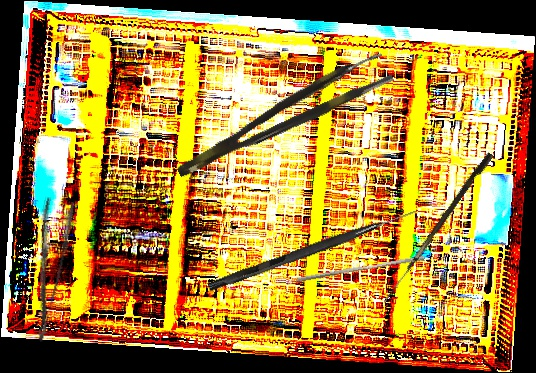Dressing Forceps: (13, 196, 78, 343)
Hook Surgical: (207, 203, 418, 295), (383, 150, 494, 308)
Pusher: (295, 250, 426, 288)
Tissue Forceps: (167, 49, 395, 181)
